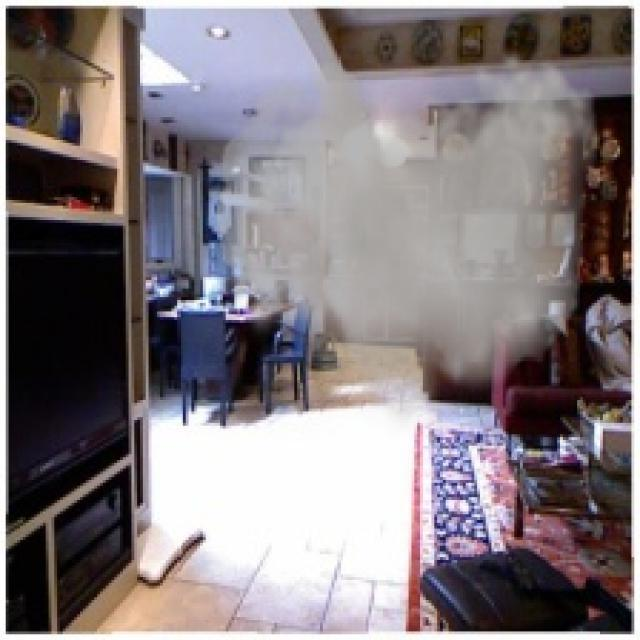Smoke: (217, 48, 600, 440)
